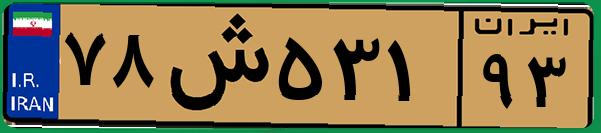1: (385, 28, 445, 110)
3: (330, 28, 385, 110), (525, 38, 570, 115)
5: (270, 28, 330, 110)
7: (57, 26, 110, 100)
8: (110, 28, 158, 98)
9: (475, 38, 525, 113)
ش: (158, 12, 270, 120)
